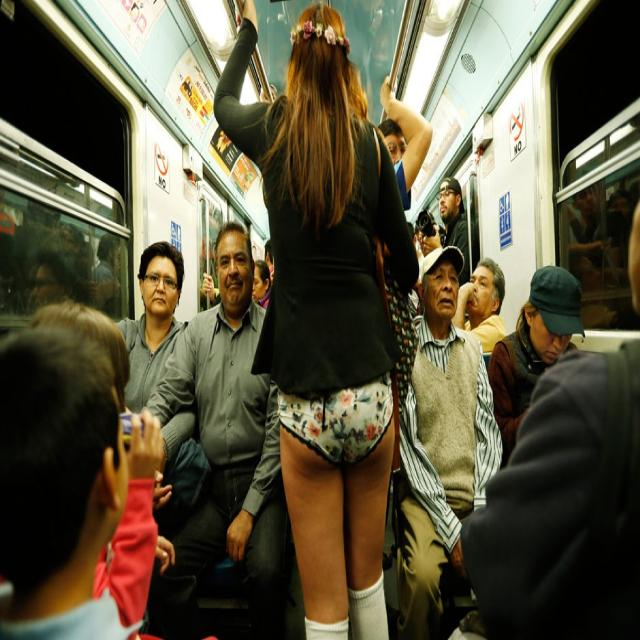body: (211, 0, 422, 639), (451, 182, 640, 636), (134, 220, 288, 640), (27, 298, 168, 640), (0, 150, 276, 322), (0, 326, 148, 636), (395, 243, 506, 640), (486, 262, 586, 470), (110, 238, 200, 468), (553, 142, 640, 332), (372, 74, 434, 214), (423, 174, 478, 289), (450, 257, 510, 353), (412, 201, 446, 312)
